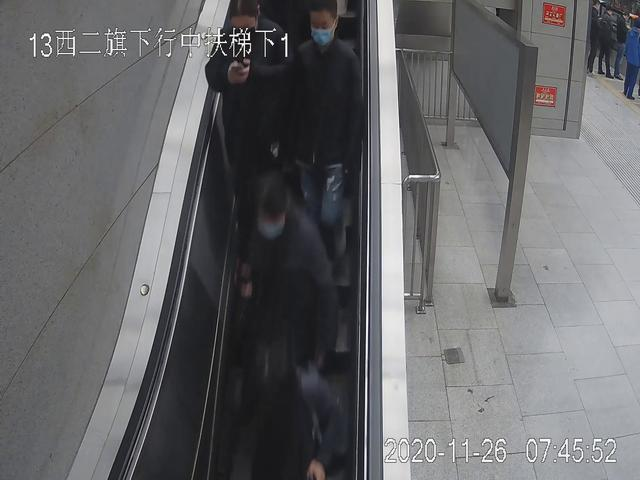person: (284, 3, 367, 337), (206, 1, 285, 303), (597, 6, 619, 77), (621, 21, 640, 102)
